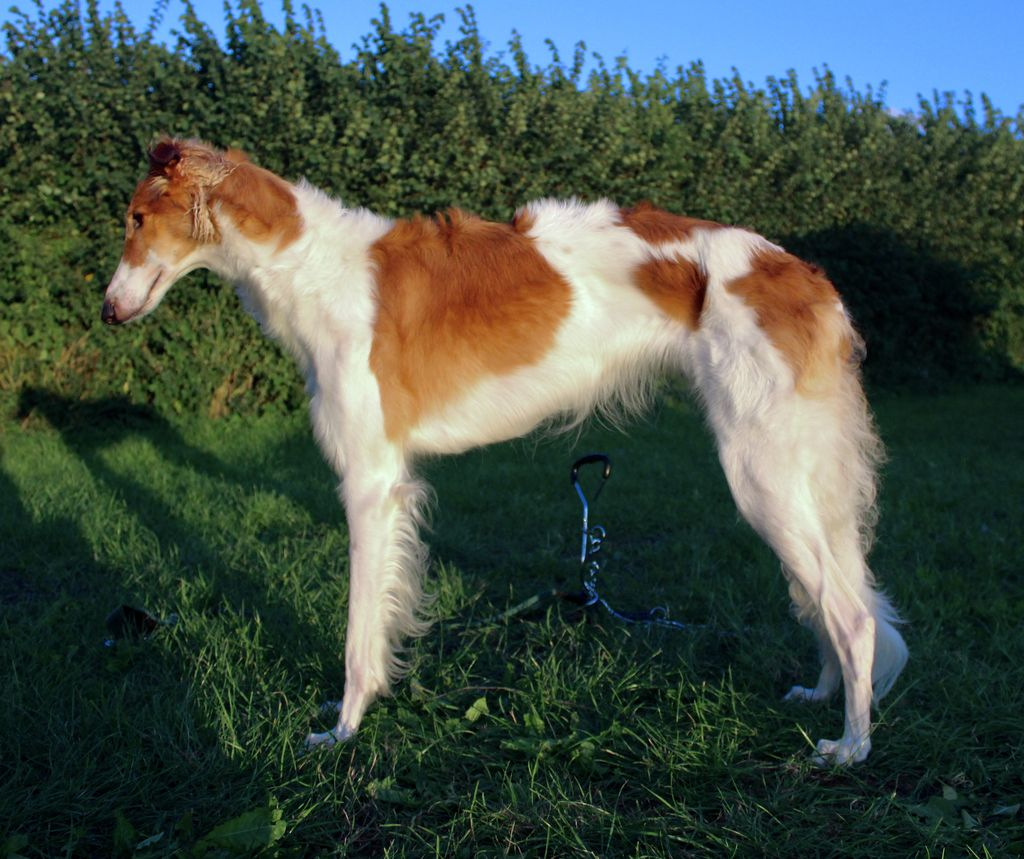borzoi: (92, 131, 920, 769)
